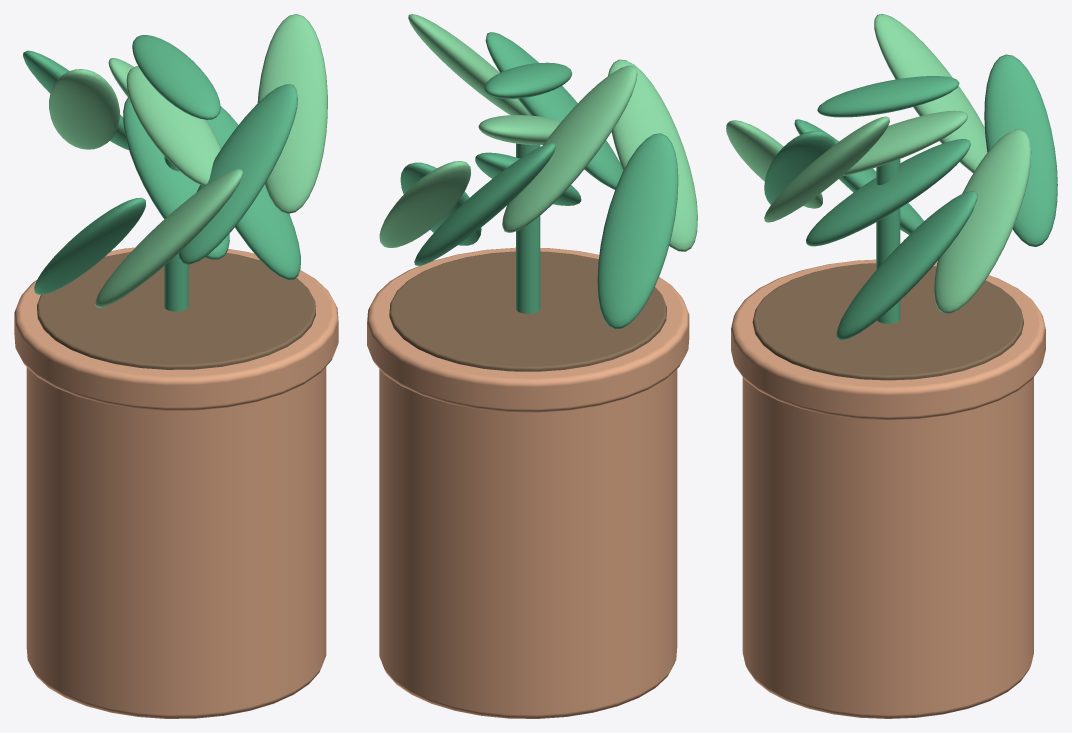
The model's file is decorative_plant.glb.
3 renders of one model, left to right at view 1: azimuth 30°, elevation 25°; view 2: azimuth 150°, elevation 25°; view 3: azimuth 270°, elevation 25°, orthographic. The views are drawn at different scales.
Parts seen in each view (by area): view 1: PlantPot, PlantSoil, PlantPotRim, PlantLeaf_10, PlantLeaf_9, PlantLeaf_8, PlantLeaf_1, PlantLeaf_6, PlantLeaf_2, PlantLeaf_3, PlantLeaf_7, PlantLeaf_0 (+2 smaller); view 2: PlantPot, PlantSoil, PlantPotRim, PlantLeaf_7, PlantLeaf_6, PlantLeaf_8, PlantLeaf_5, PlantLeaf_4, PlantLeaf_9, PlantLeaf_10, PlantStem, PlantLeaf_2 (+3 smaller); view 3: PlantPot, PlantSoil, PlantPotRim, PlantLeaf_4, PlantLeaf_5, PlantLeaf_3, PlantLeaf_0, PlantLeaf_6, PlantLeaf_10, PlantLeaf_2, PlantLeaf_1, PlantLeaf_9 (+3 smaller).
Boxes of the visible parts, x1,y1,x2,y2 form: PlantPot: [26, 367, 326, 718]; PlantSoil: [37, 252, 315, 369]; PlantPotRim: [14, 247, 338, 410]; PlantLeaf_10: [257, 14, 327, 213]; PlantLeaf_9: [178, 84, 297, 264]; PlantLeaf_8: [95, 169, 243, 307]; PlantLeaf_1: [126, 66, 220, 185]; PlantLeaf_6: [49, 69, 119, 149]; PlantLeaf_2: [132, 35, 220, 119]; PlantLeaf_3: [206, 106, 300, 279]; PlantLeaf_7: [34, 197, 145, 294]; PlantLeaf_0: [123, 96, 229, 259]; PlantPot: [379, 369, 677, 718]; PlantSoil: [389, 251, 666, 371]; PlantPotRim: [367, 247, 689, 412]; PlantLeaf_7: [597, 133, 678, 329]; PlantLeaf_6: [502, 65, 637, 232]; PlantLeaf_8: [608, 59, 697, 251]; PlantLeaf_5: [414, 143, 555, 265]; PlantLeaf_4: [379, 161, 470, 247]; PlantLeaf_9: [485, 32, 622, 189]; PlantLeaf_10: [408, 14, 530, 115]; PlantStem: [516, 143, 540, 313]; PlantLeaf_2: [484, 62, 572, 98]; PlantPot: [742, 377, 1033, 718]; PlantSoil: [752, 263, 1023, 380]; PlantPotRim: [731, 259, 1045, 419]; PlantLeaf_4: [934, 129, 1031, 313]; PlantLeaf_5: [984, 54, 1057, 246]; PlantLeaf_3: [836, 191, 977, 340]; PlantLeaf_0: [806, 139, 970, 246]; PlantLeaf_6: [874, 14, 987, 173]; PlantLeaf_10: [764, 116, 889, 222]; PlantLeaf_2: [817, 76, 959, 117]; PlantLeaf_1: [842, 110, 967, 176]; PlantLeaf_9: [764, 131, 835, 204].
Bounding box in the file's own units: 0.476 × 0.9973 × 0.5013.
